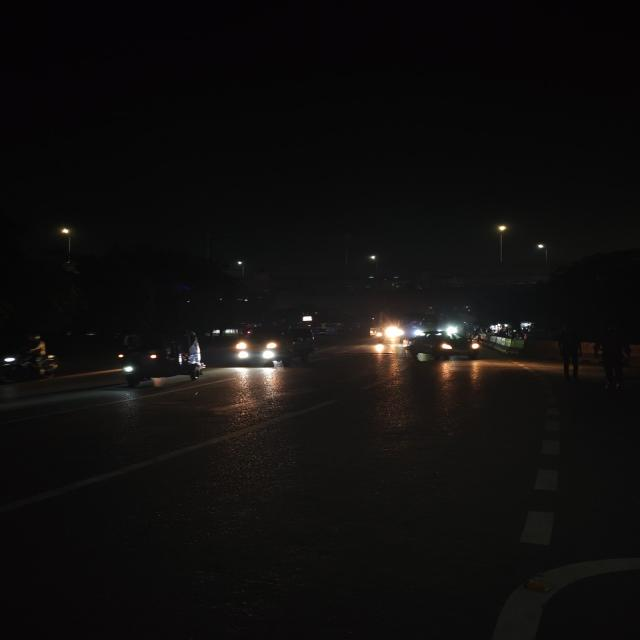car: (230, 323, 321, 367), (401, 331, 485, 363)
cng: (112, 329, 212, 389)
motorcycle: (0, 336, 66, 385)
pedestrian: (592, 338, 635, 391), (551, 320, 585, 385)
